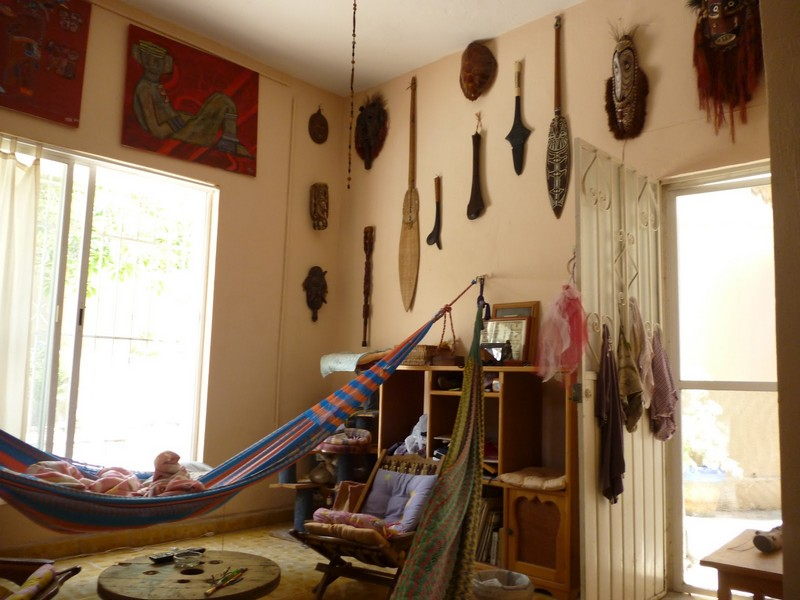chair: (303, 454, 445, 573)
door: (567, 144, 681, 592)
stool: (695, 516, 783, 597)
